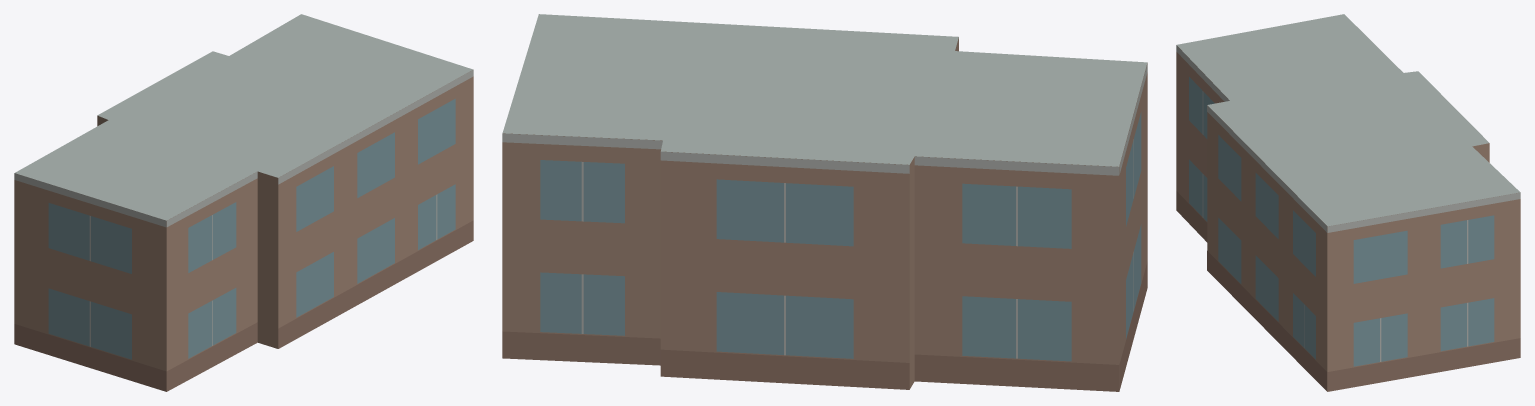
The model's file is survey-upis-32968644.glb.
3 views of the same model, side by side, from view 1: azimuth 30°, elevation 25°; view 2: azimuth 150°, elevation 25°; view 3: azimuth 270°, elevation 25° (orthographic). The views are drawn at different scales.
Parts seen in each view (by area): view 1: survey-upis-32968644.tmp; view 2: survey-upis-32968644.tmp; view 3: survey-upis-32968644.tmp.
Boxes of the visible parts, x1,y1,x2,y2 form: survey-upis-32968644.tmp: [14, 14, 473, 391]; survey-upis-32968644.tmp: [502, 14, 1147, 391]; survey-upis-32968644.tmp: [1176, 14, 1520, 391].
Bounding box in the file's own units: 16.8 × 6.1 × 11.51.
